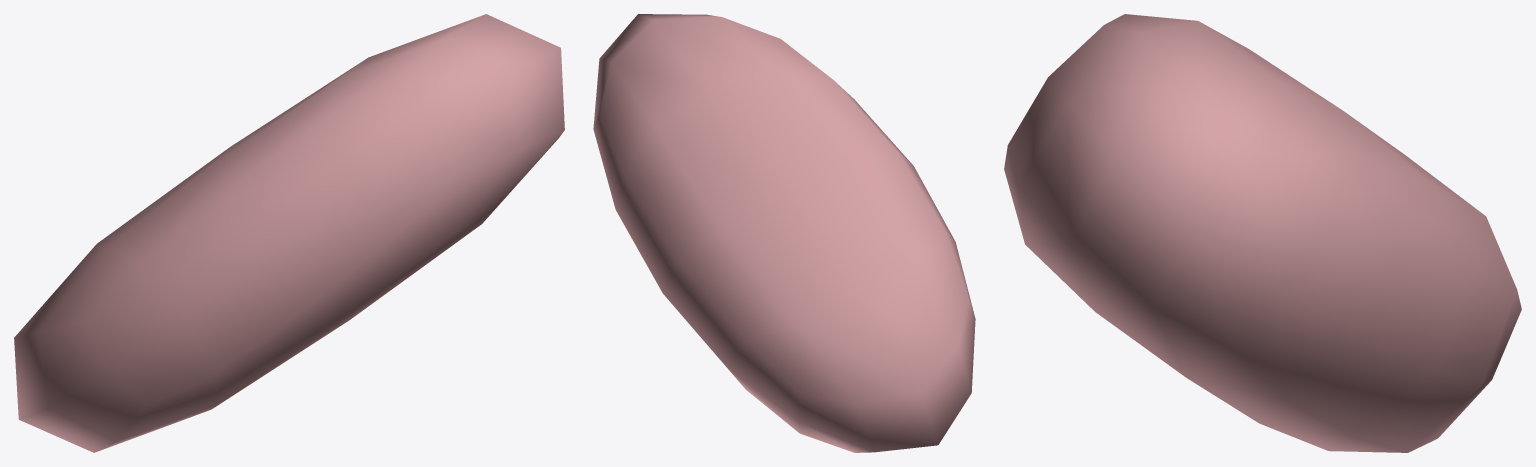
3 renders of one model, left to right at view 1: azimuth 30°, elevation 25°; view 2: azimuth 150°, elevation 25°; view 3: azimuth 270°, elevation 25°, orthographic. The views are drawn at different scales.
Visible parts, largest first — view 1: ZA_9d222654712ffd10; view 2: ZA_9d222654712ffd10; view 3: ZA_9d222654712ffd10.
Boxes of the visible parts, left/top/right/bottom form: ZA_9d222654712ffd10: left=14, top=14, right=564, bottom=452; ZA_9d222654712ffd10: left=593, top=14, right=975, bottom=452; ZA_9d222654712ffd10: left=1004, top=14, right=1521, bottom=452.
Bounding box in the file's own units: 0.00389 × 0.00308 × 0.00252.
